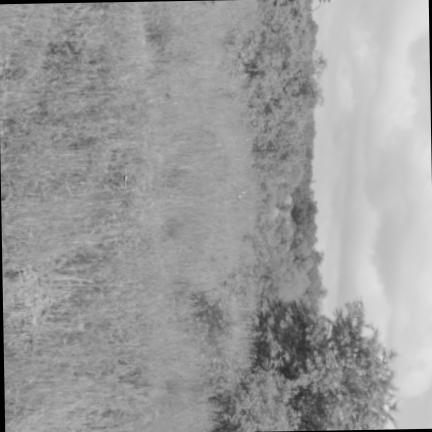Shahed: (123, 168, 126, 187)
